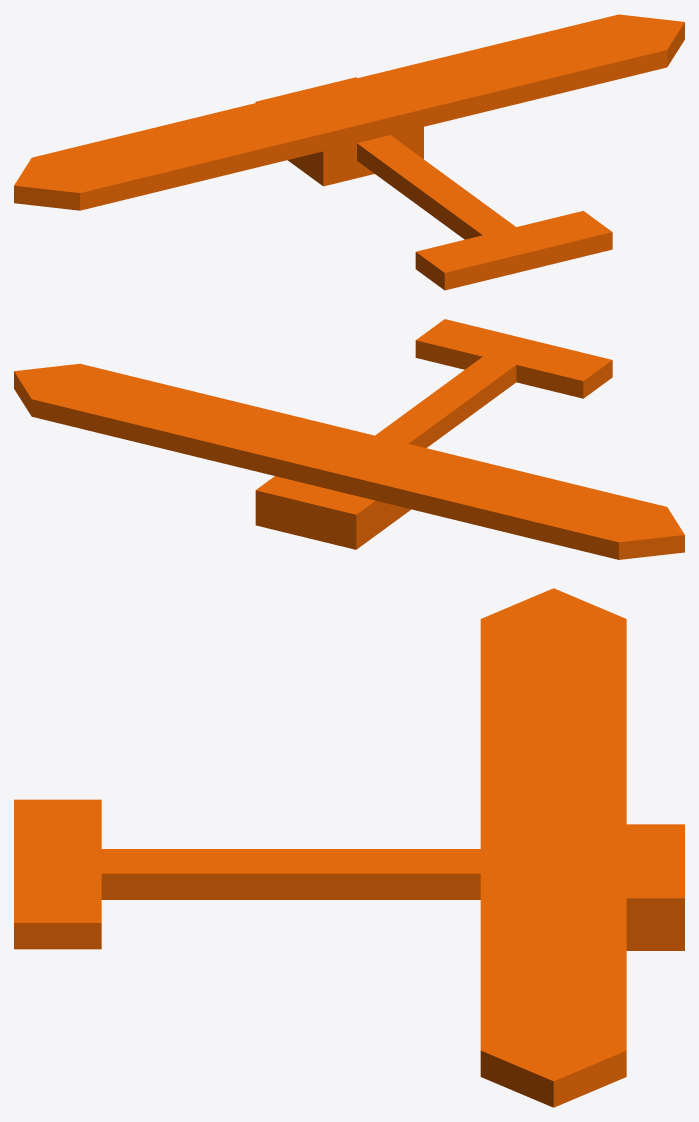
File: WrightBFlyerOrange.dae
3 views of the same model, one above another, from view 1: azimuth 30°, elevation 25°; view 2: azimuth 150°, elevation 25°; view 3: azimuth 270°, elevation 25° (orthographic). The views are drawn at different scales.
Visible parts, largest first — view 1: Cube.010; view 2: Cube.010; view 3: Cube.010.
Part boxes in pixels (<box>): Cube.010: <box>14,14,684,290</box>; Cube.010: <box>14,319,684,559</box>; Cube.010: <box>14,588,684,1107</box>.
Size of the model in its own units: 8 by 4.6 by 0.6.
